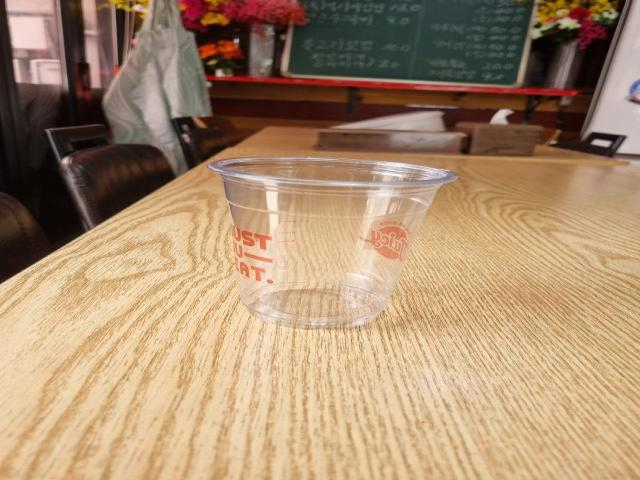cup: (193, 148, 464, 336)
